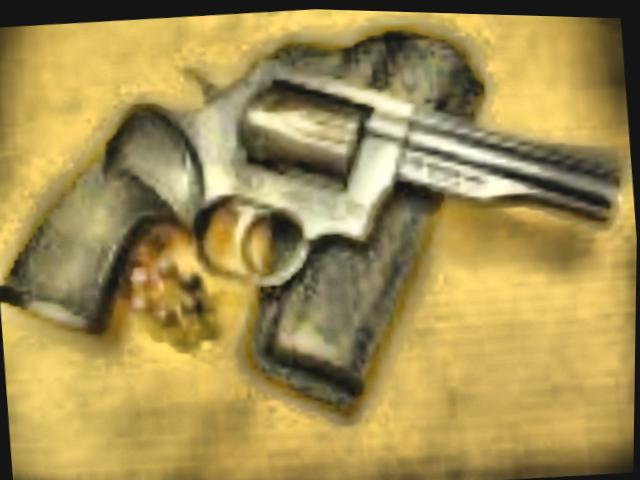pistol: (0, 1, 636, 350)
